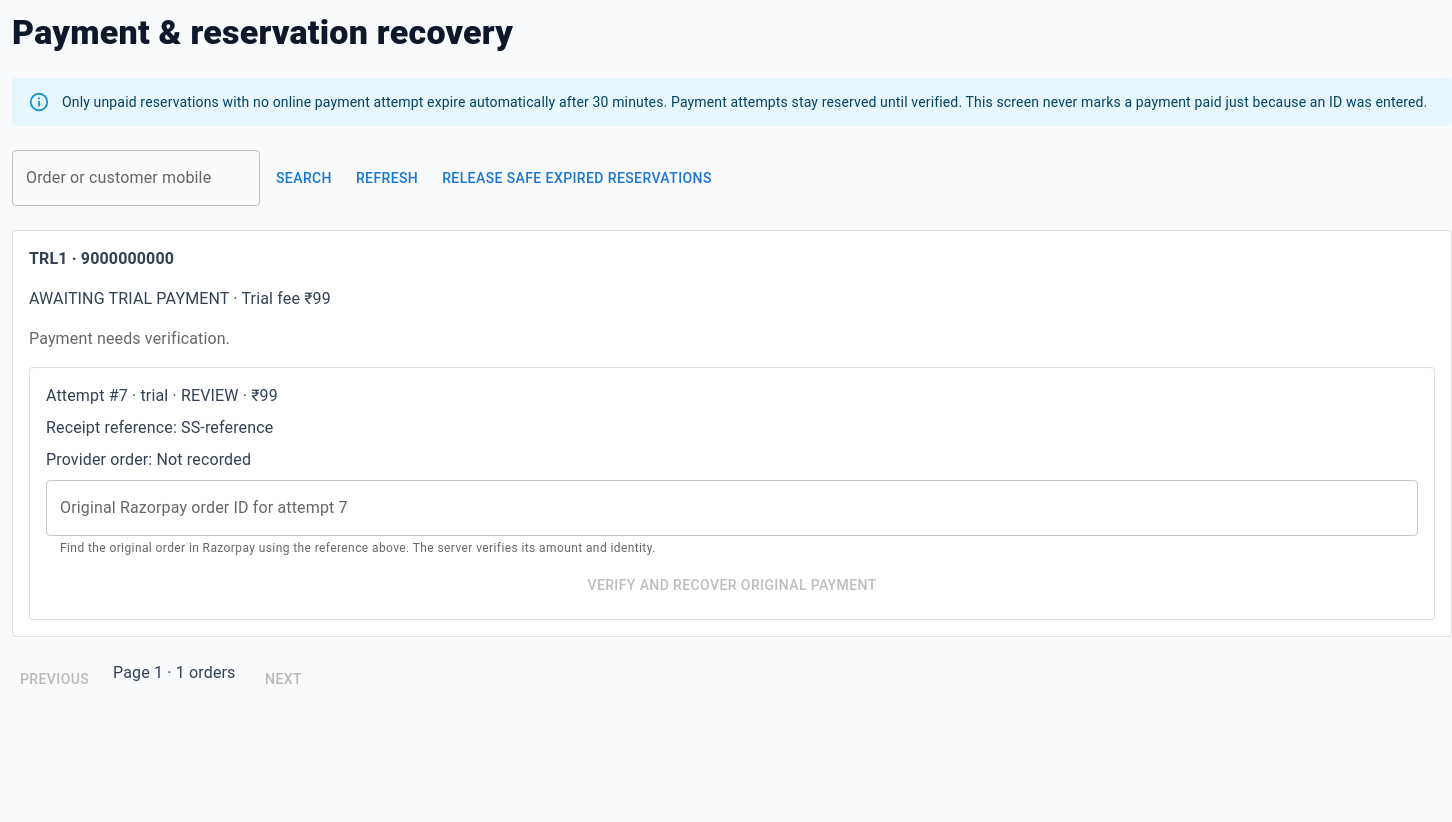
Test: recover uses the original provider ID and displays result
Check: the text "Receipt reference: SS-reference" is shown, box [46,418,273,437]
Check: the button "Verify and recover original payment" is disabled, box [46,567,1418,603]
Type "order_Original" into the field labelled "Original Razorpay order ID for attempt 7".
click(732, 508); type("order_Original")  # box [46,480,1418,536]
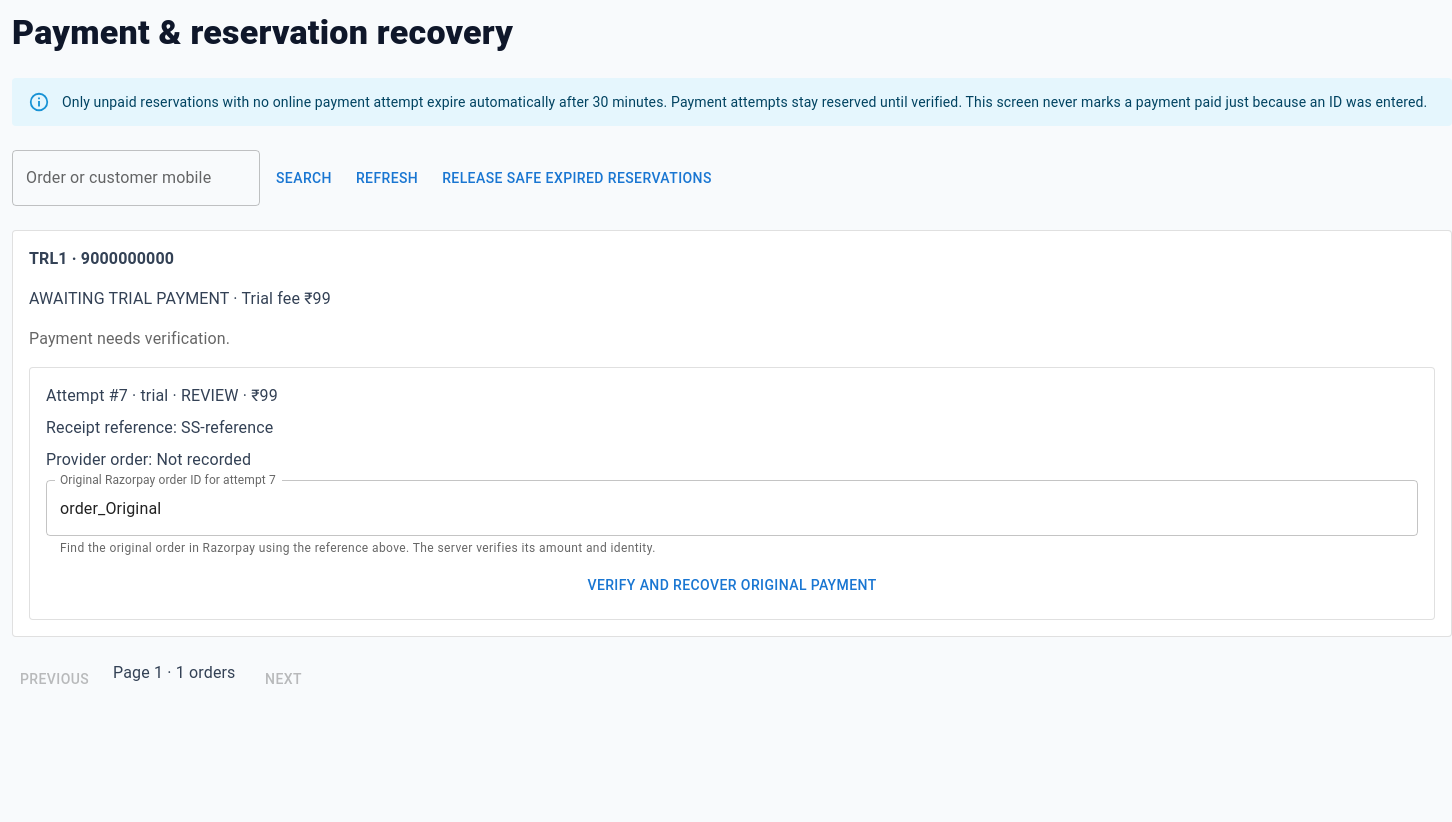
Click the button "Verify and recover original payment".
click(732, 585)  # box [46,567,1418,603]
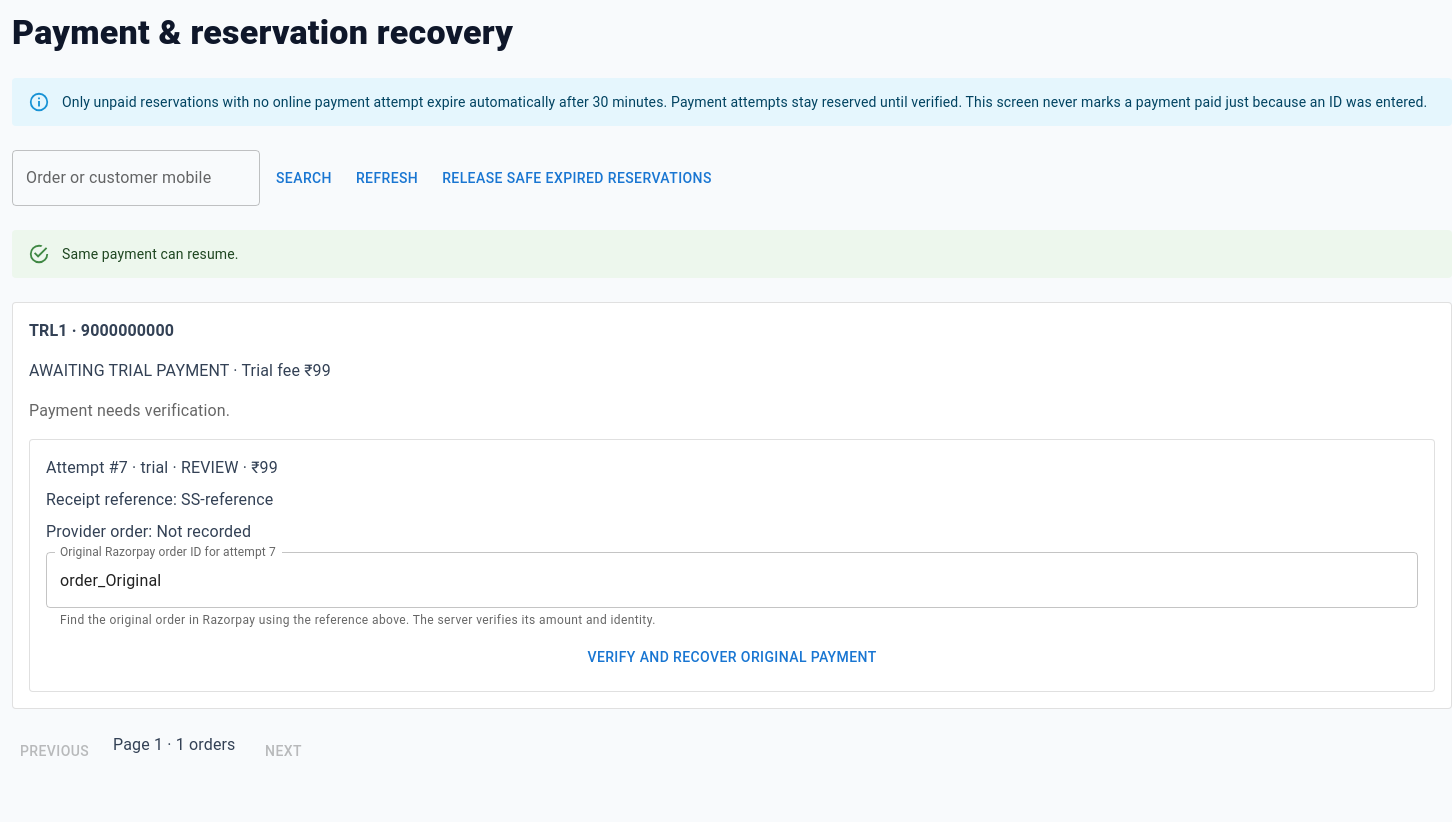
Check: the text "Same payment can resume." is shown, box [62,246,239,262]
